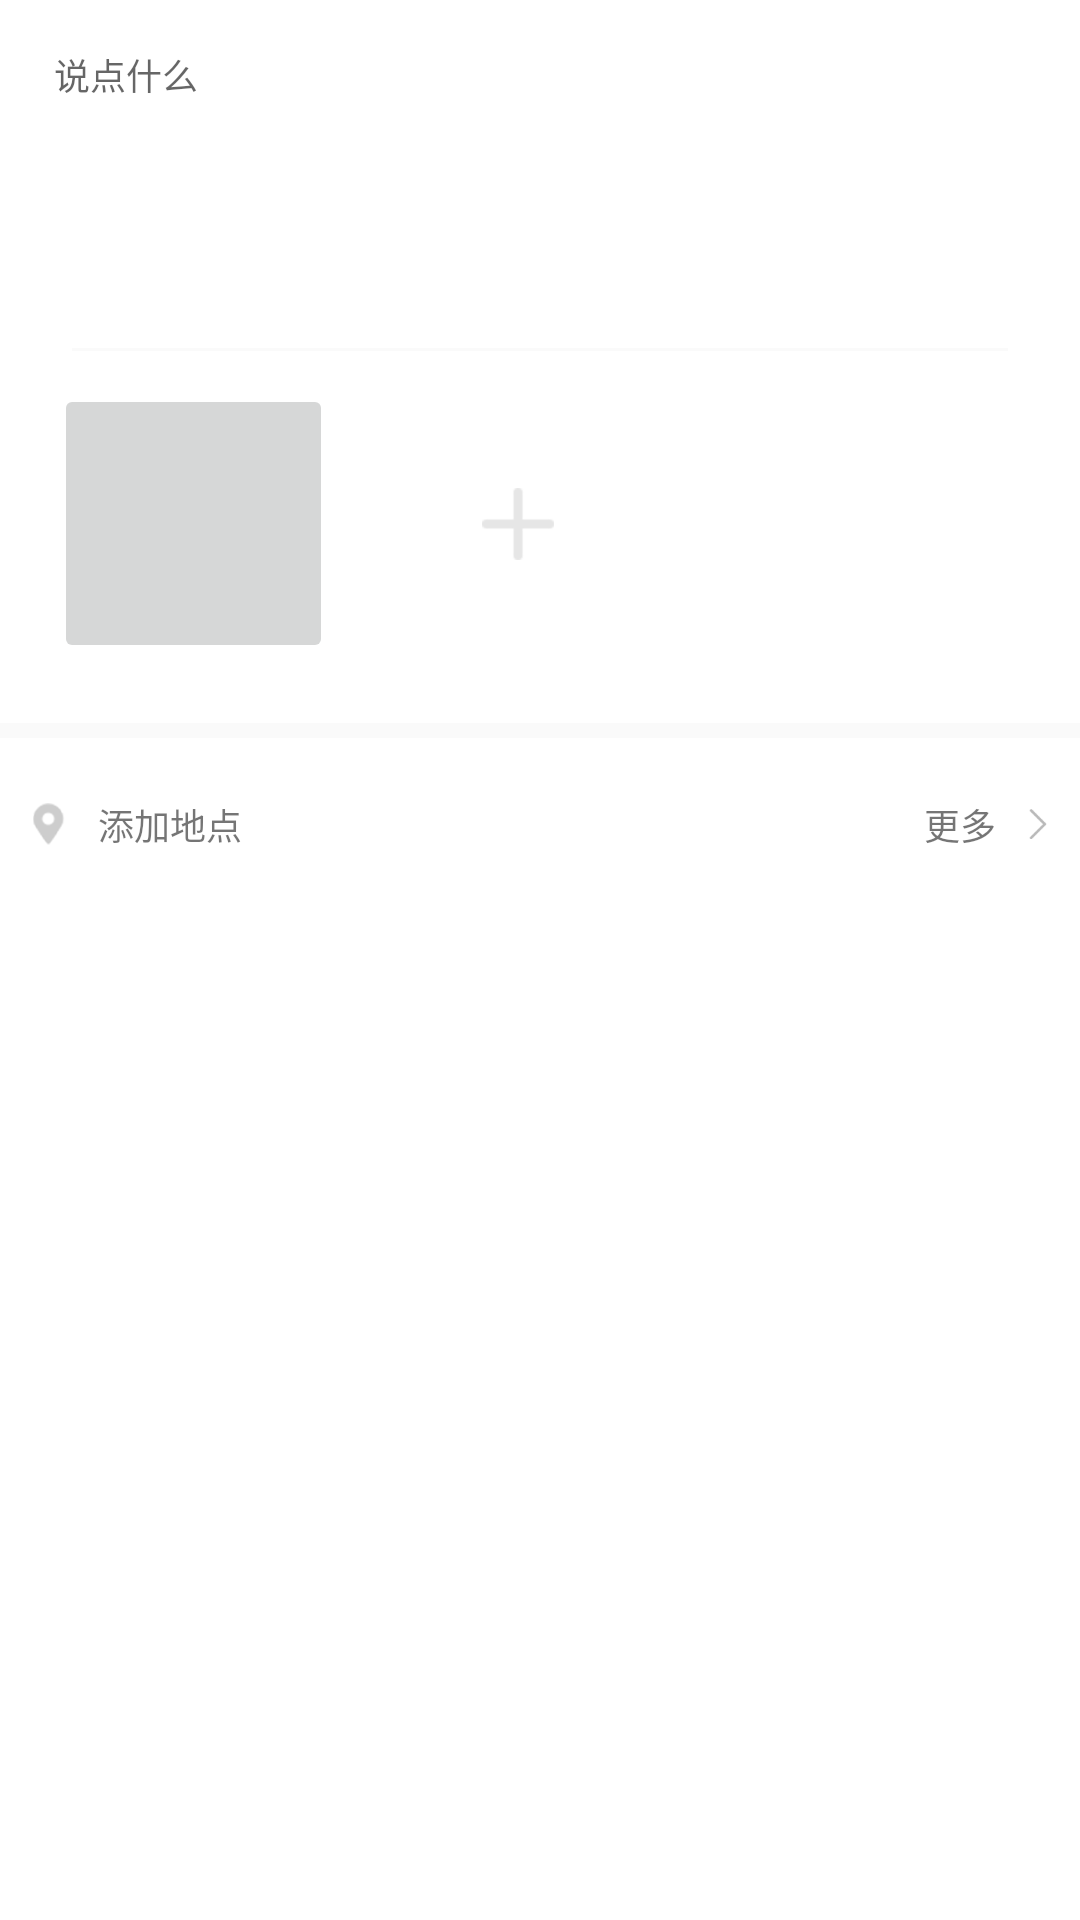

Icons on this 1080×1920 Android screen, each with its box as bbox=[x1, y1, x2, y2]:
release add file: bbox=[483, 489, 553, 559]
